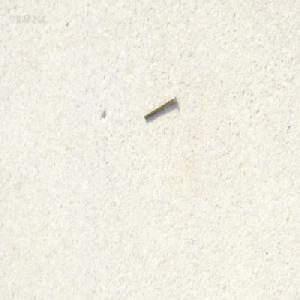Bolt: (143, 92, 176, 119)
